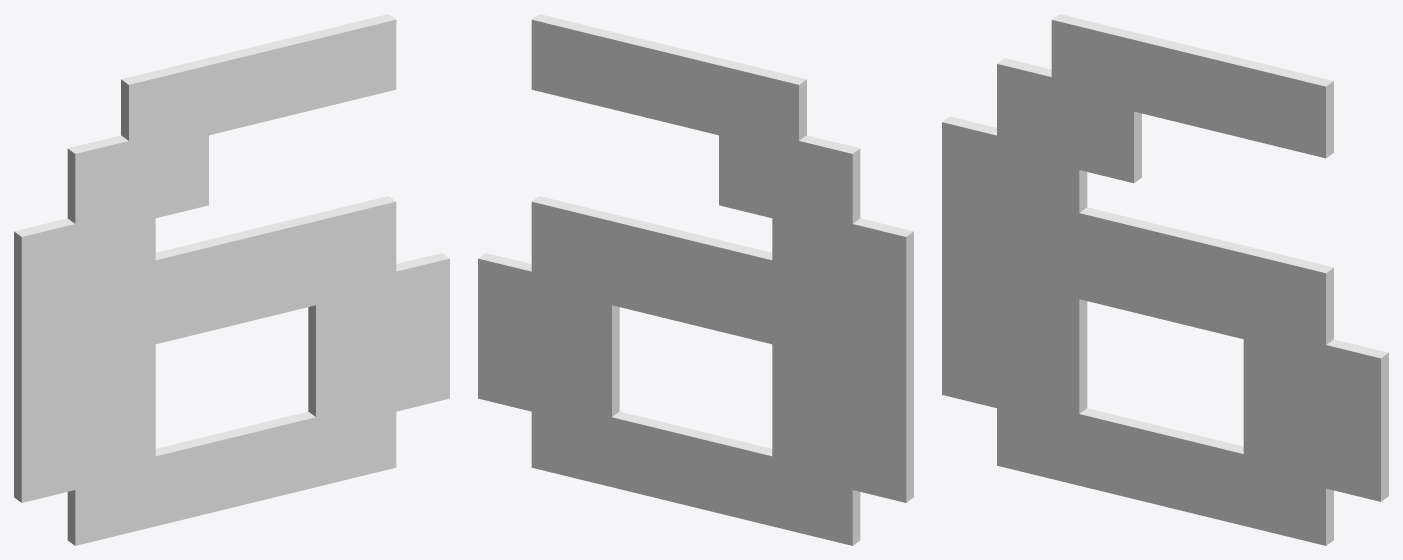
3 views of the same model, side by side, from view 1: azimuth 30°, elevation 25°; view 2: azimuth 150°, elevation 25°; view 3: azimuth 330°, elevation 25° (orthographic). The views are drawn at different scales.
Parts seen in each view (by area): view 1: ch_6_32; view 2: ch_6_32; view 3: ch_6_32.
Part boxes in pixels (box(x1,y1,x2,y2)): ch_6_32: box(14, 14, 449, 545); ch_6_32: box(478, 14, 913, 545); ch_6_32: box(942, 14, 1388, 545).
Size of the model in its own units: 32 by 32 by 1.
1 material, 1 textured.
